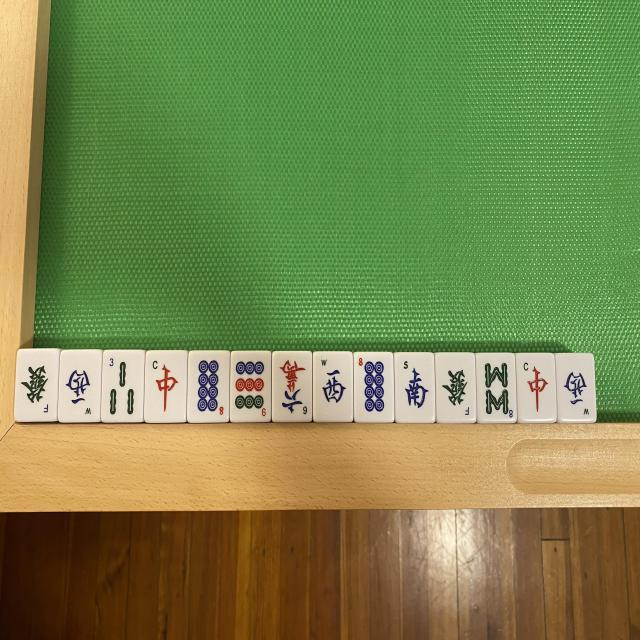hdg: (14, 353, 56, 423), (434, 356, 474, 424)
hdr: (144, 352, 184, 419), (521, 354, 558, 421)
hws: (397, 354, 435, 422)
hww: (60, 351, 98, 421), (557, 356, 595, 423), (315, 353, 352, 421)
sb3: (103, 354, 142, 424)
sb8: (478, 352, 516, 420)
sc6: (274, 352, 312, 421)
sd8: (190, 354, 228, 423), (354, 352, 392, 420)
sd9: (229, 351, 269, 421)
